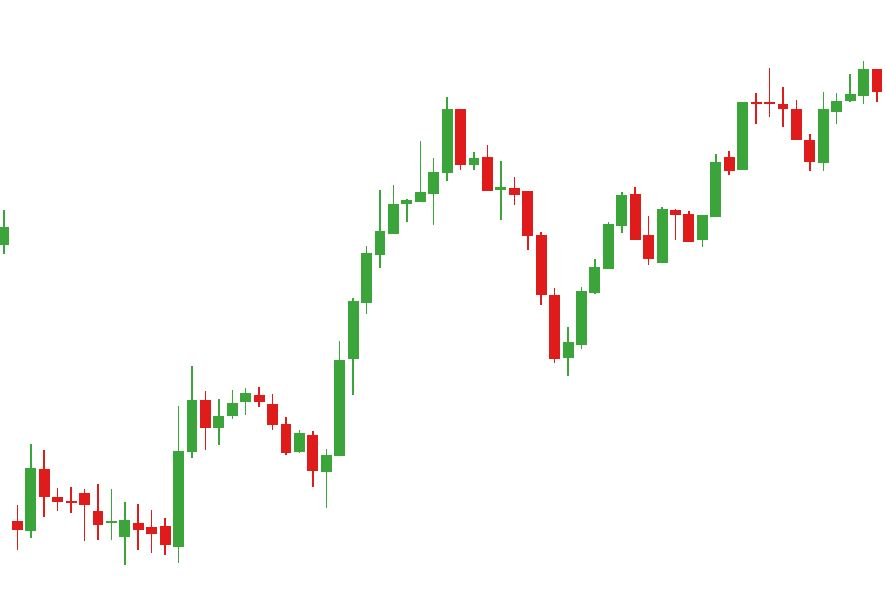buy: (200, 399, 348, 512)
